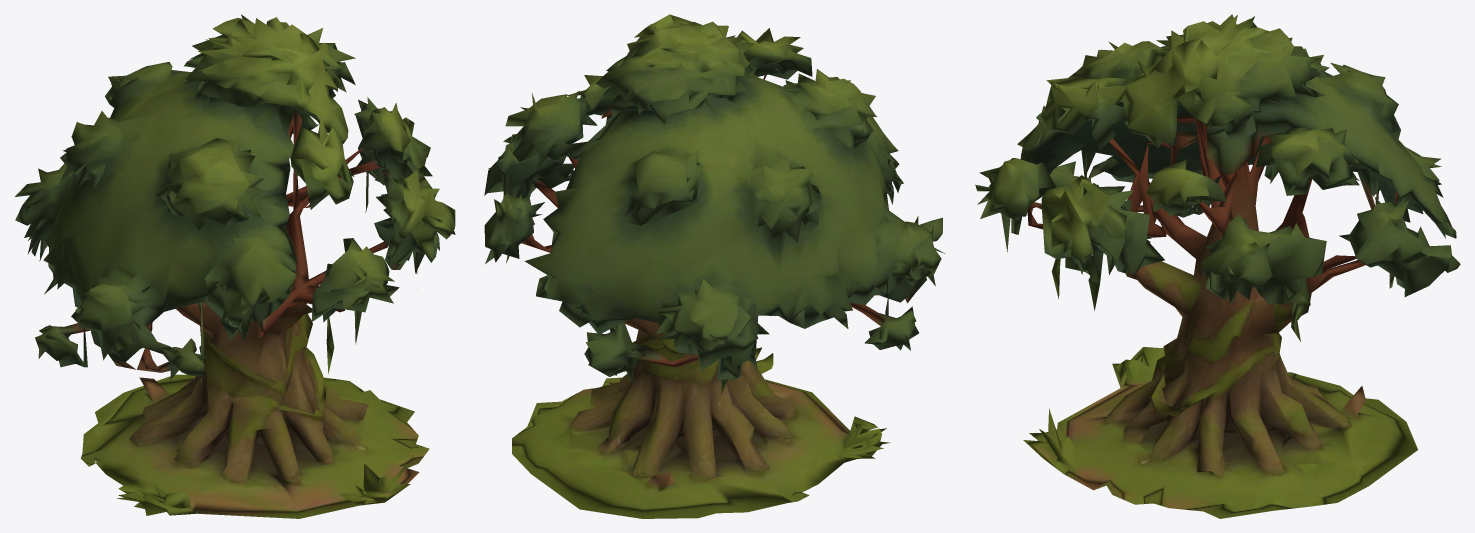
Rendered from hd_tree_ancient.glb.
The picture shows the model from 3 angles, left to right: view 1: azimuth 30°, elevation 25°; view 2: azimuth 150°, elevation 25°; view 3: azimuth 270°, elevation 25°; orthographic projection.
Parts seen in each view (by area): view 1: tripo_node_e82d26b9-b4a5-45cb-856b-f2246d549074; view 2: tripo_node_e82d26b9-b4a5-45cb-856b-f2246d549074; view 3: tripo_node_e82d26b9-b4a5-45cb-856b-f2246d549074.
Boxes of the visible parts, <box> form: tripo_node_e82d26b9-b4a5-45cb-856b-f2246d549074: <box>15,14,455,518</box>; tripo_node_e82d26b9-b4a5-45cb-856b-f2246d549074: <box>484,14,945,518</box>; tripo_node_e82d26b9-b4a5-45cb-856b-f2246d549074: <box>975,14,1460,518</box>.
Bounding box in the file's own units: 0.9668 × 0.9573 × 0.9943.
1 material, 1 textured.
